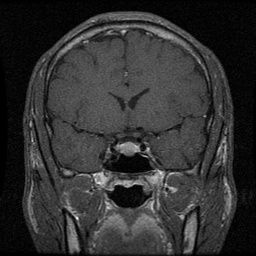pituitary: (114, 140, 140, 156)
